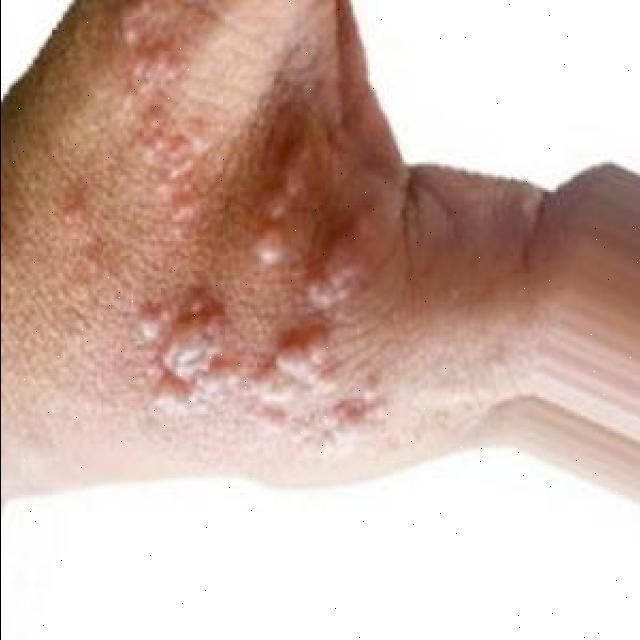Shingles: (114, 299, 386, 452), (116, 33, 208, 242), (256, 127, 326, 286), (302, 208, 385, 316)
